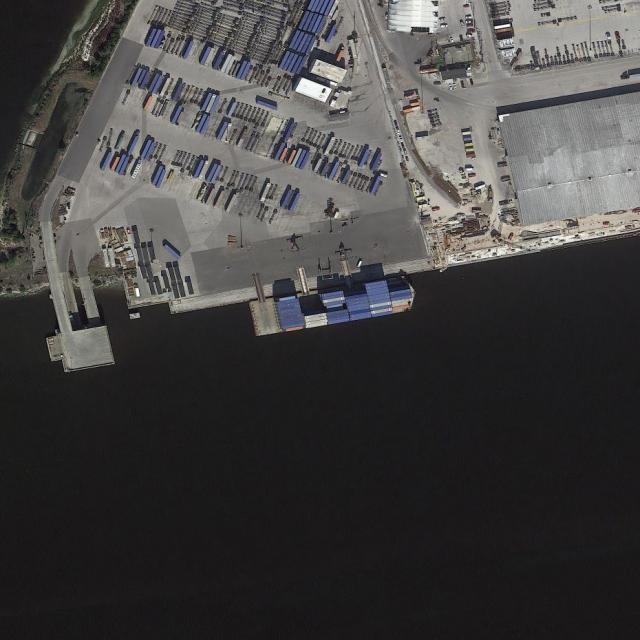Container Ship: (246, 273, 418, 338)
